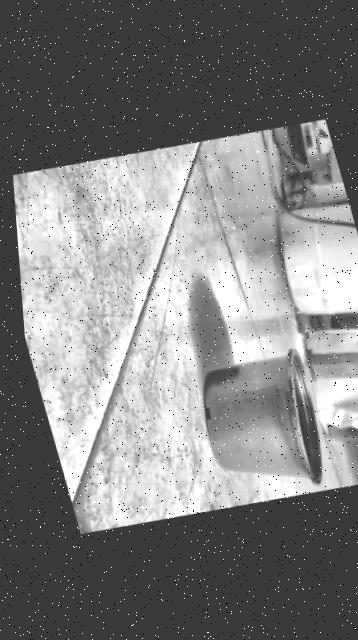pot: (187, 344, 338, 507)
